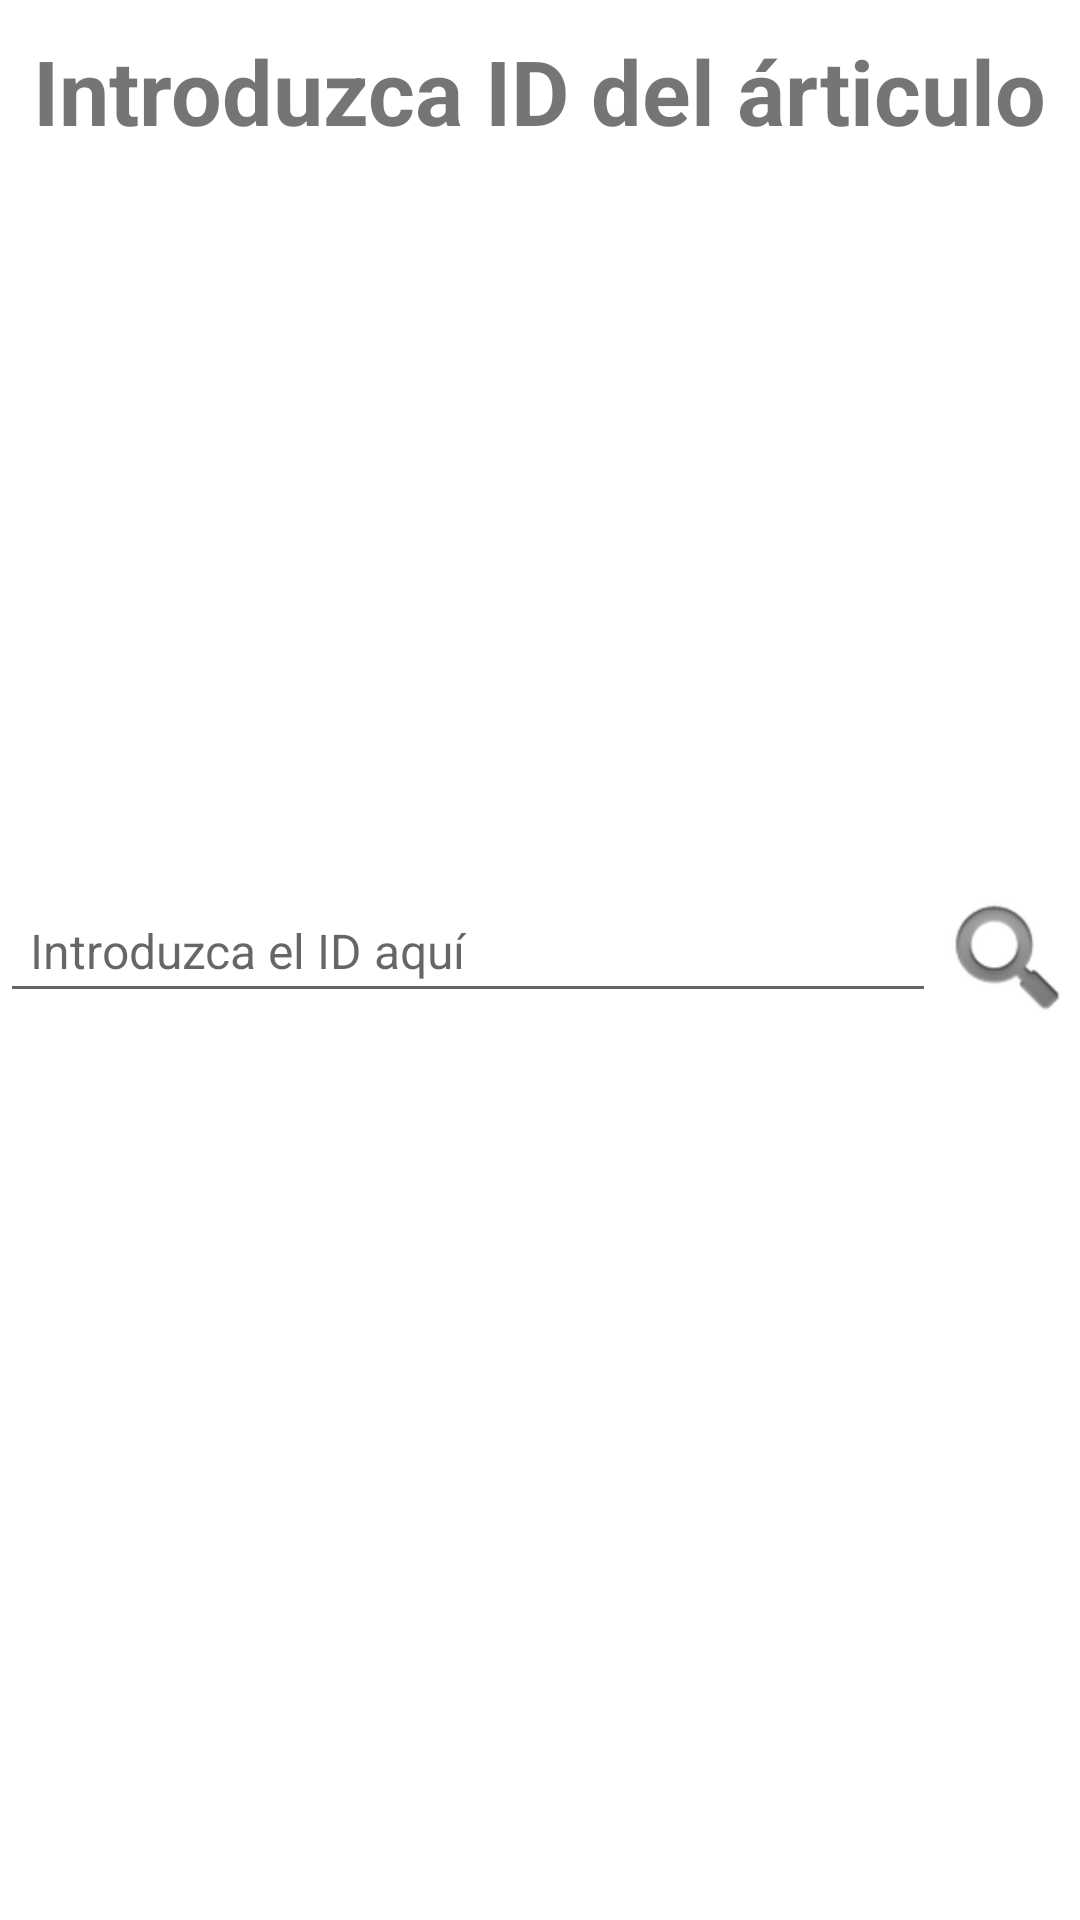

Point at icon controls on the screen. Image size 1080 × 1920, points as (x,y).
search category: (1007,957)
